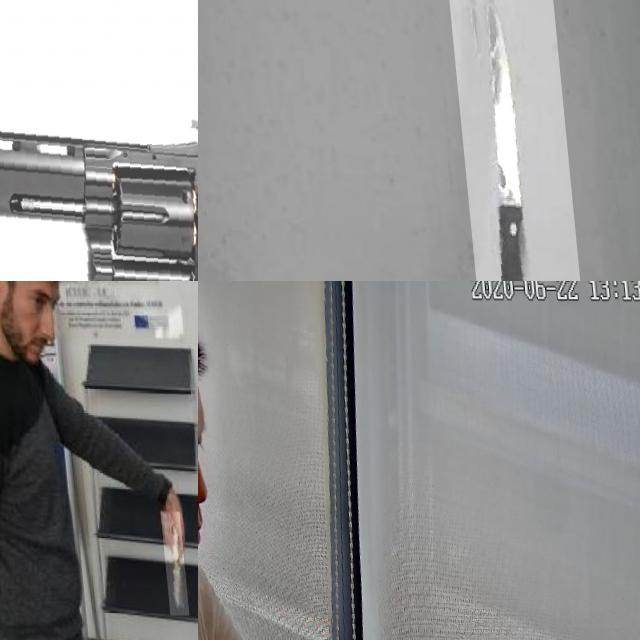-: (444, 0, 582, 281), (153, 511, 180, 615)
gun-knife-thesis - v11 Yolov5 augmented: (0, 97, 198, 281)
